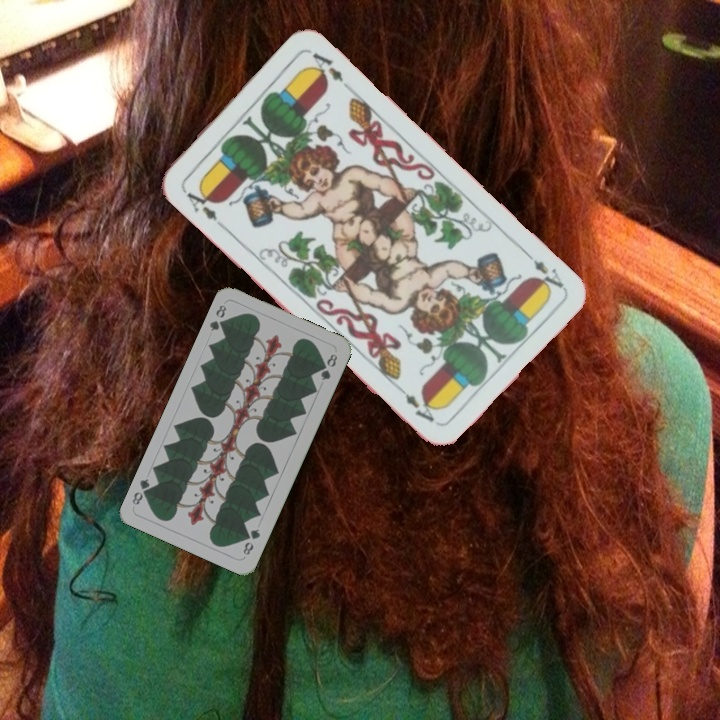EA: (520, 246, 567, 296), (178, 182, 220, 223)
G8: (239, 525, 263, 558), (205, 301, 229, 334)
